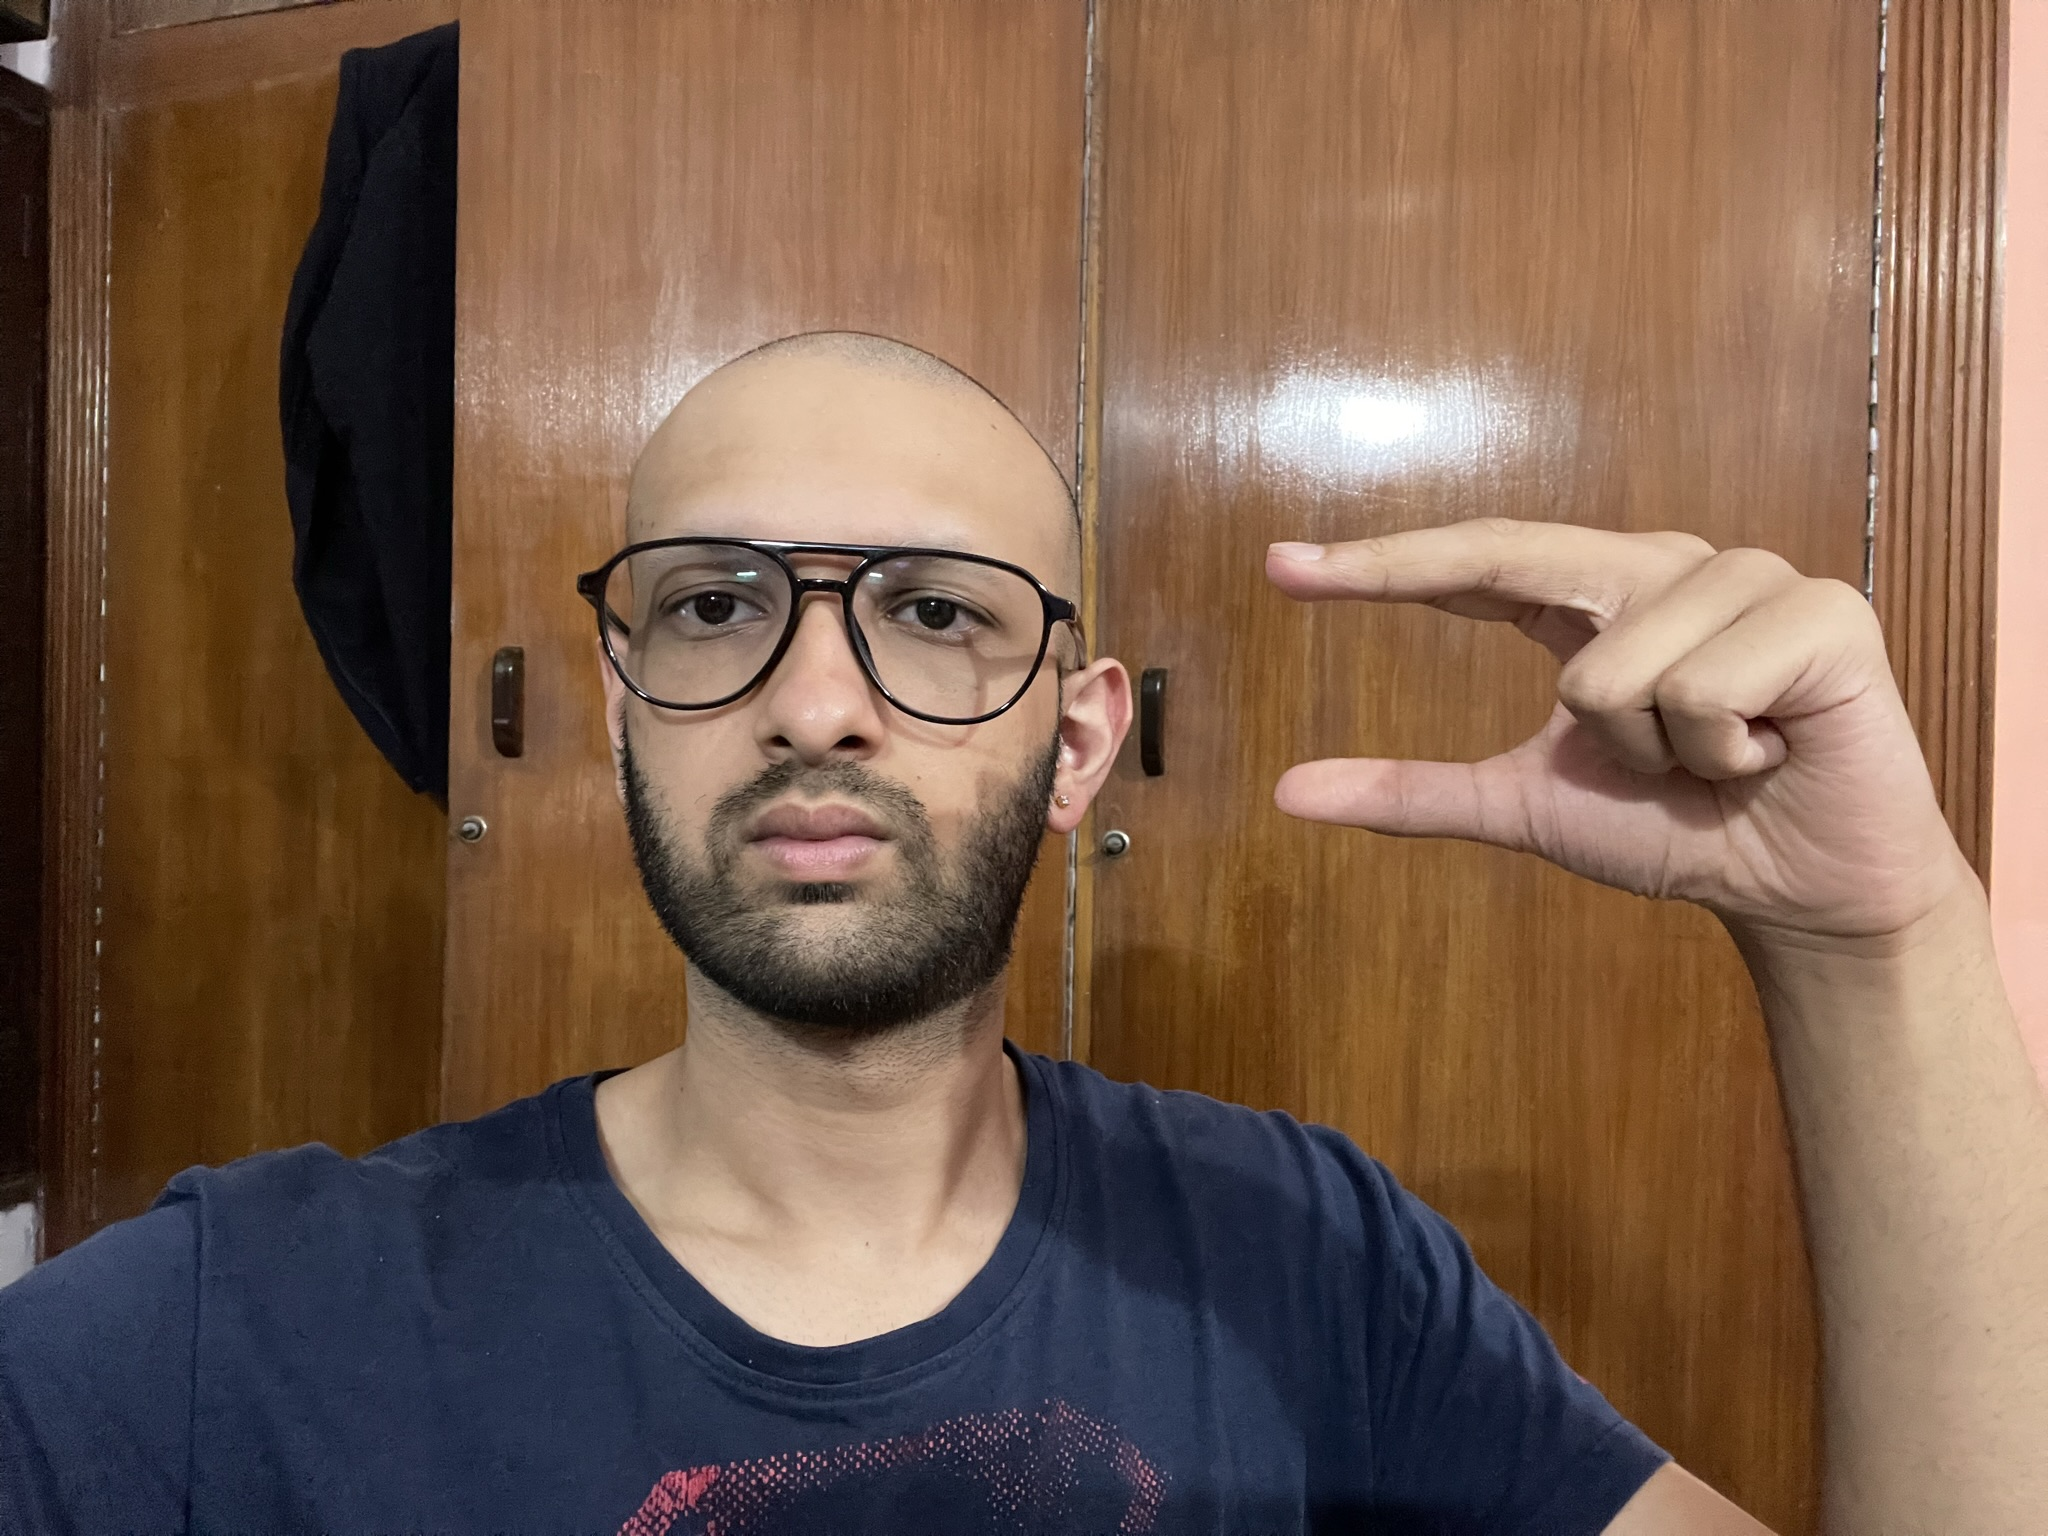No: (1256, 495, 1967, 941)
